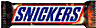grozi_12: (1, 0, 95, 28)
